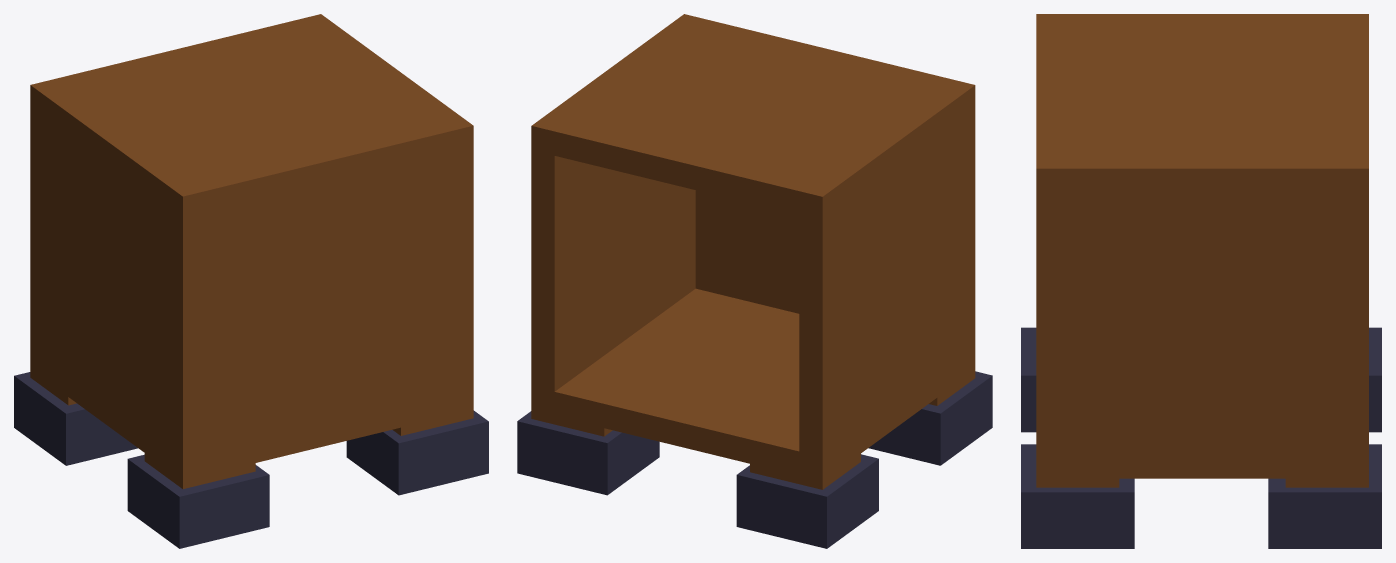
Rendered from bottomSelf.fbx.
The picture shows the model from 3 angles, left to right: view 1: azimuth 30°, elevation 25°; view 2: azimuth 150°, elevation 25°; view 3: azimuth 270°, elevation 25°; orthographic projection. The views are drawn at different scales.
Visible parts, largest first — view 1: container.001, Cube.034; view 2: container.001, Cube.034; view 3: container.001, Cube.034.
Part boxes in pixels (bbox=[...]): container.001: bbox=[30, 14, 473, 488]; Cube.034: bbox=[14, 372, 488, 548]; container.001: bbox=[531, 14, 975, 489]; Cube.034: bbox=[517, 371, 992, 548]; container.001: bbox=[1036, 14, 1368, 487]; Cube.034: bbox=[1021, 327, 1381, 548].
Size of the model in its own units: 1110 by 965 by 1042.
